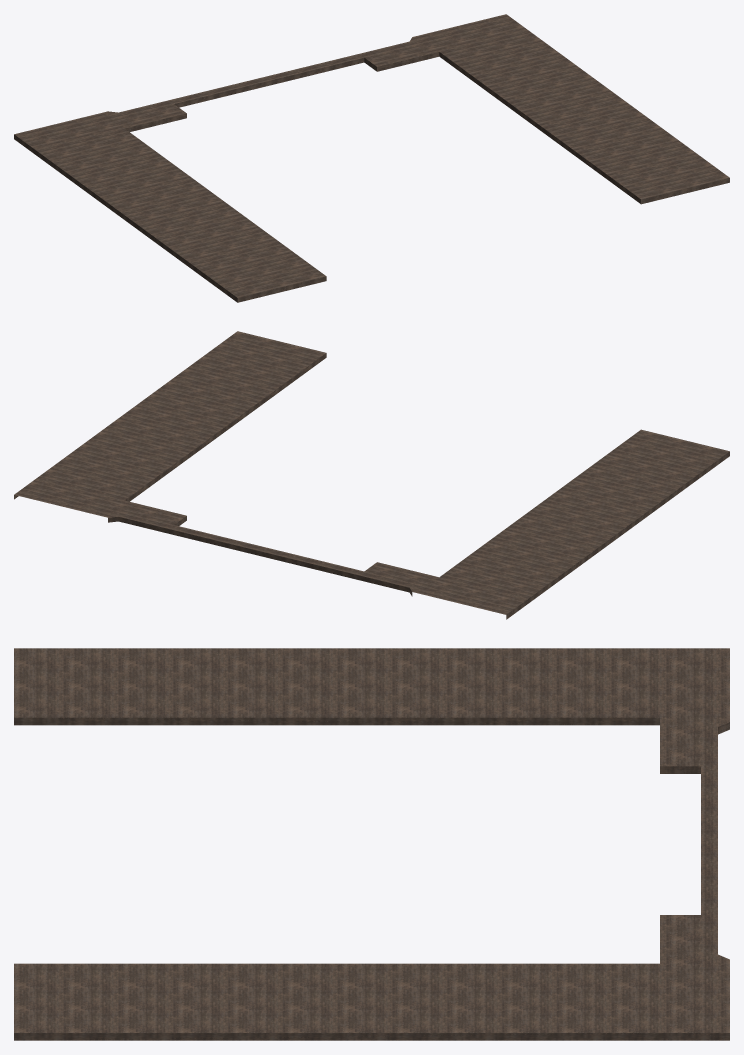
The model's file is SM_Wood_Ground_03.fbx.
The picture shows the model from 3 angles, top to bottom: view 1: azimuth 30°, elevation 25°; view 2: azimuth 150°, elevation 25°; view 3: azimuth 270°, elevation 25°; orthographic projection. The views are drawn at different scales.
Visible parts, largest first — view 1: SM_Wood_Ground_03_LOD0; view 2: SM_Wood_Ground_03_LOD0; view 3: SM_Wood_Ground_03_LOD0.
Boxes of the visible parts, x1,y1,x2,y2 form: SM_Wood_Ground_03_LOD0: [14, 14, 729, 302]; SM_Wood_Ground_03_LOD0: [14, 331, 729, 619]; SM_Wood_Ground_03_LOD0: [14, 648, 729, 1040].
Bounding box in the file's own units: 3260 × 2564 × 30.8.
